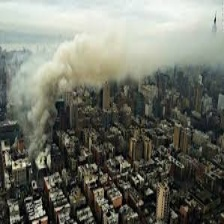smoke: (10, 23, 151, 158)
